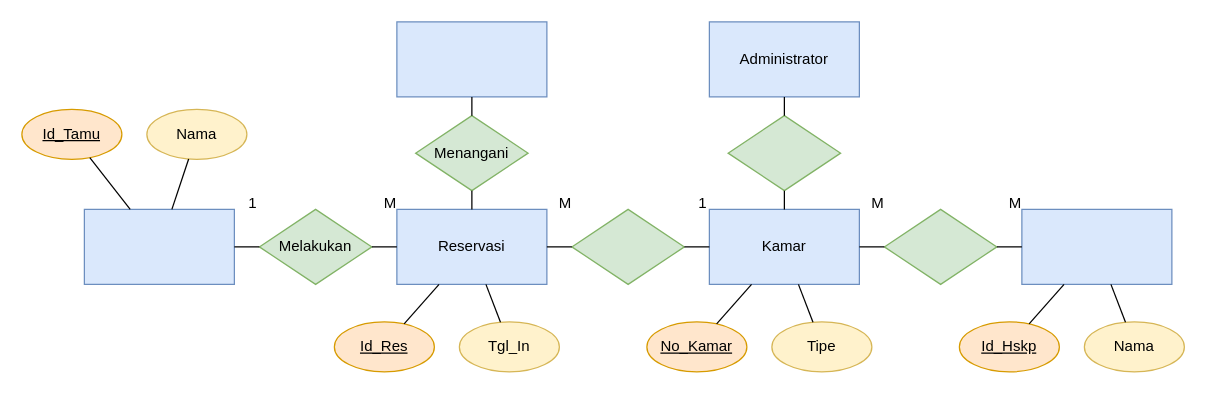
The diagram is 1206 pixels wide and 394 high, and some of its shapes have lost their labels. The centre of each missing label's shape, as x and y in pixels:
Housekeeping: (x=1096, y=246)
Membersihkan: (x=940, y=246)
Memesan: (x=627, y=246)
Mengelola: (x=784, y=152)
Resepsionis: (x=471, y=59)
Tamu: (x=158, y=246)
